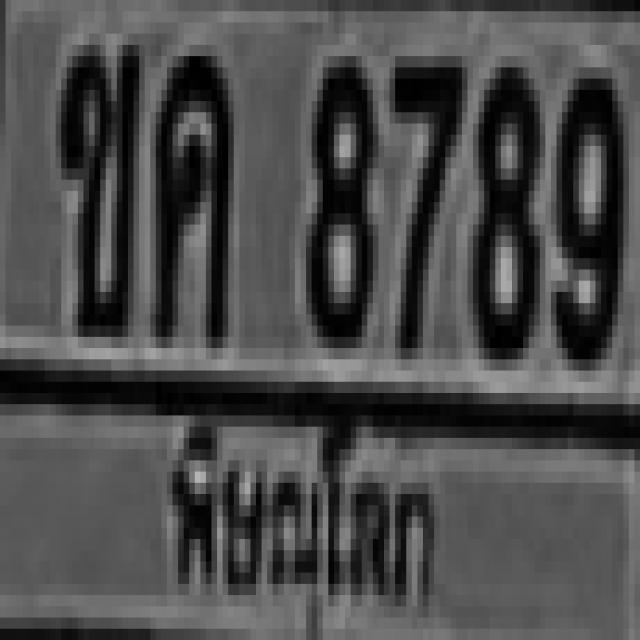11KhorKhai: (56, 34, 139, 326)
13KhorKhwai: (150, 51, 228, 331)
7: (389, 45, 462, 348)
8: (300, 51, 373, 331), (468, 56, 534, 348)
9: (551, 62, 618, 354)
Phitsanulok: (154, 408, 438, 614)
